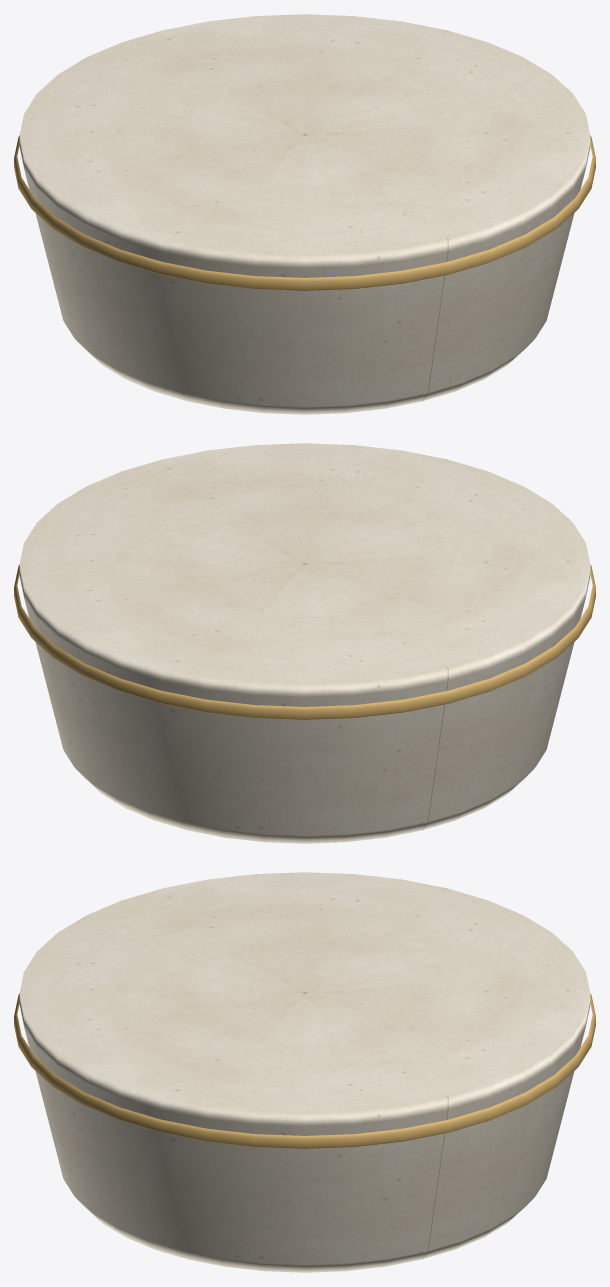
File: table.glb
3 views of the same model, one above another, from view 1: azimuth 30°, elevation 25°; view 2: azimuth 150°, elevation 25°; view 3: azimuth 270°, elevation 25° (orthographic).
Visible parts, largest first — view 1: resort; view 2: resort; view 3: resort.
Part boxes in pixels (box(x1,y1,x2,y2)): resort: box(14, 14, 595, 414); resort: box(14, 443, 595, 843); resort: box(14, 872, 595, 1272).
Bounding box in the file's own units: 1.22 × 0.42 × 1.22.
Materials: 2 (1 with a texture image).
